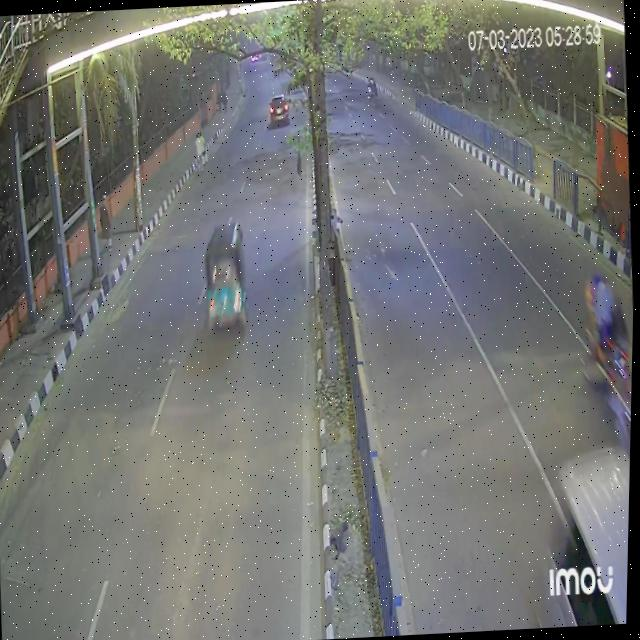cng: (201, 214, 256, 330)
